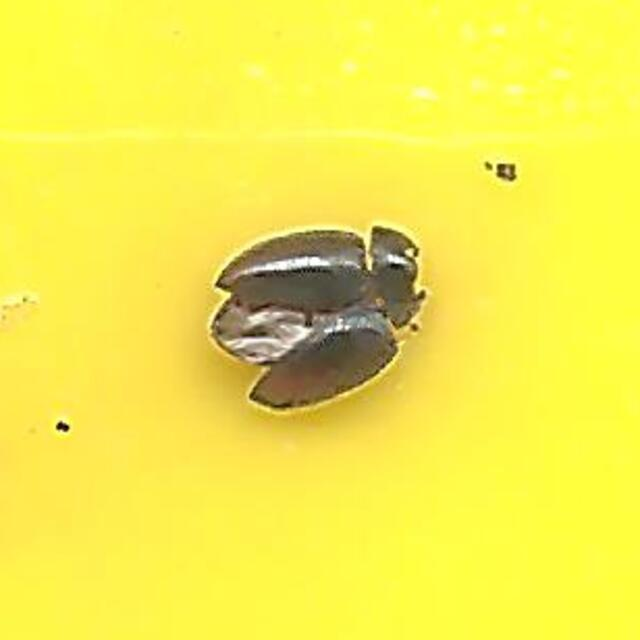Coleoptera: (208, 221, 432, 419)
